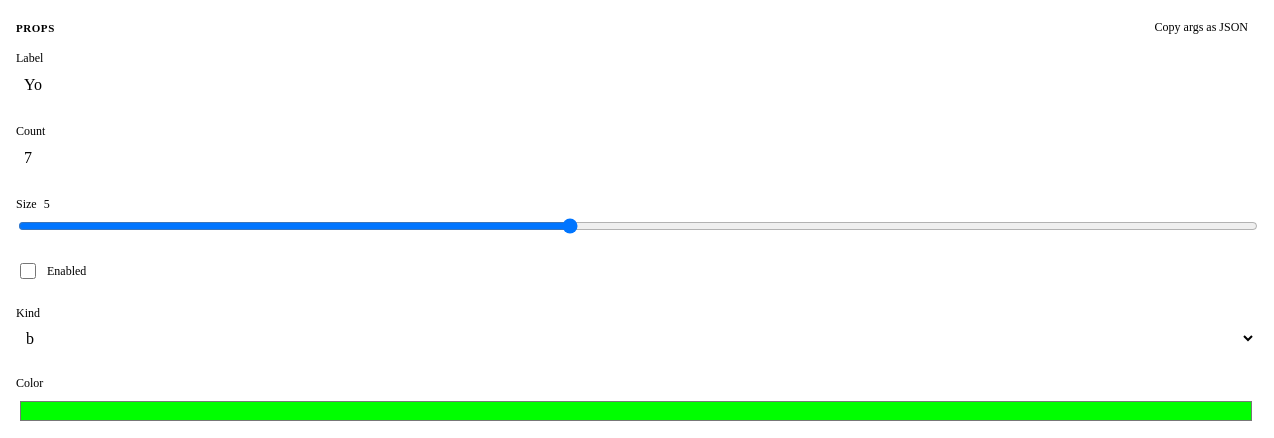
PropsPanel: copy args as JSON › writes pretty-printed JSON of the current args to the clipboard
Click the button "Copy args as JSON": coordinates (1201, 28) [1146, 16, 1256, 39]
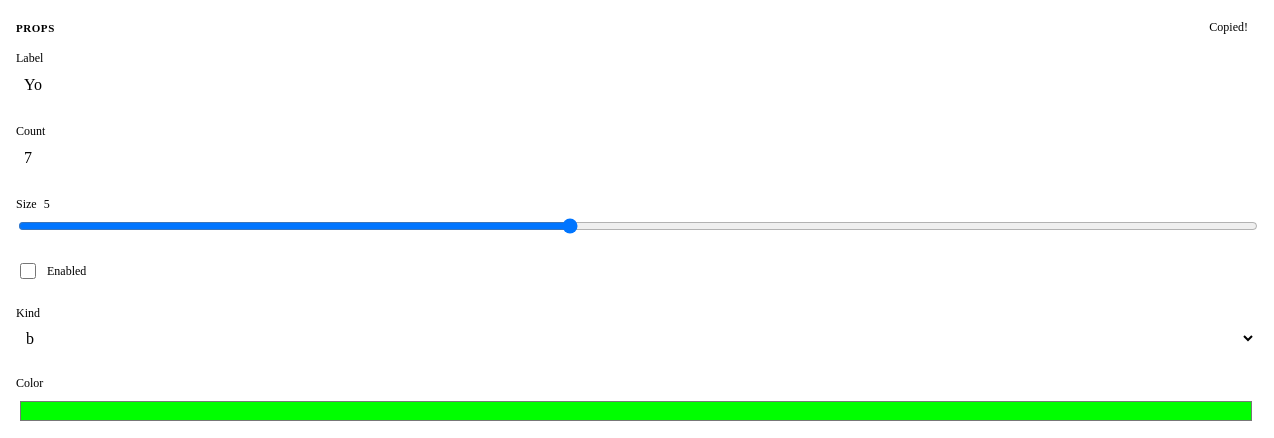
Expected: the button "Copied!" is shown, [1201, 16, 1256, 39]
